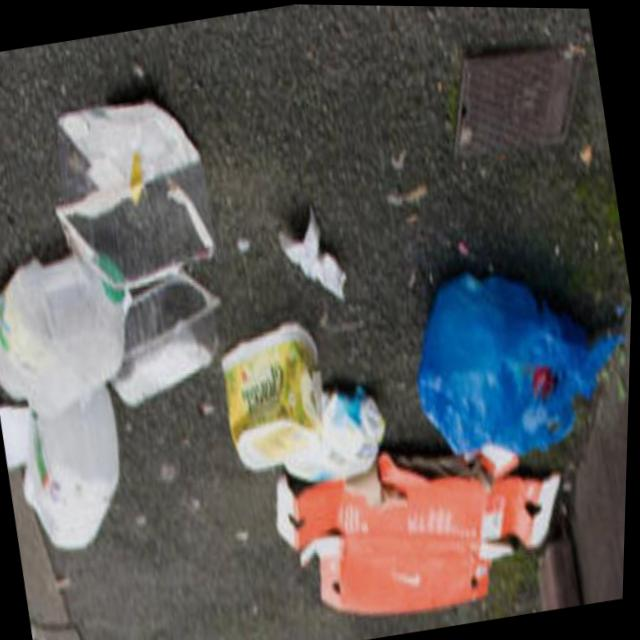food: (278, 184, 367, 311)
leaf: (40, 64, 250, 301), (0, 232, 143, 428), (6, 372, 145, 563), (218, 320, 356, 497), (96, 278, 250, 420), (272, 390, 409, 490)
metal: (405, 251, 634, 470)
trash: (273, 418, 574, 640)
